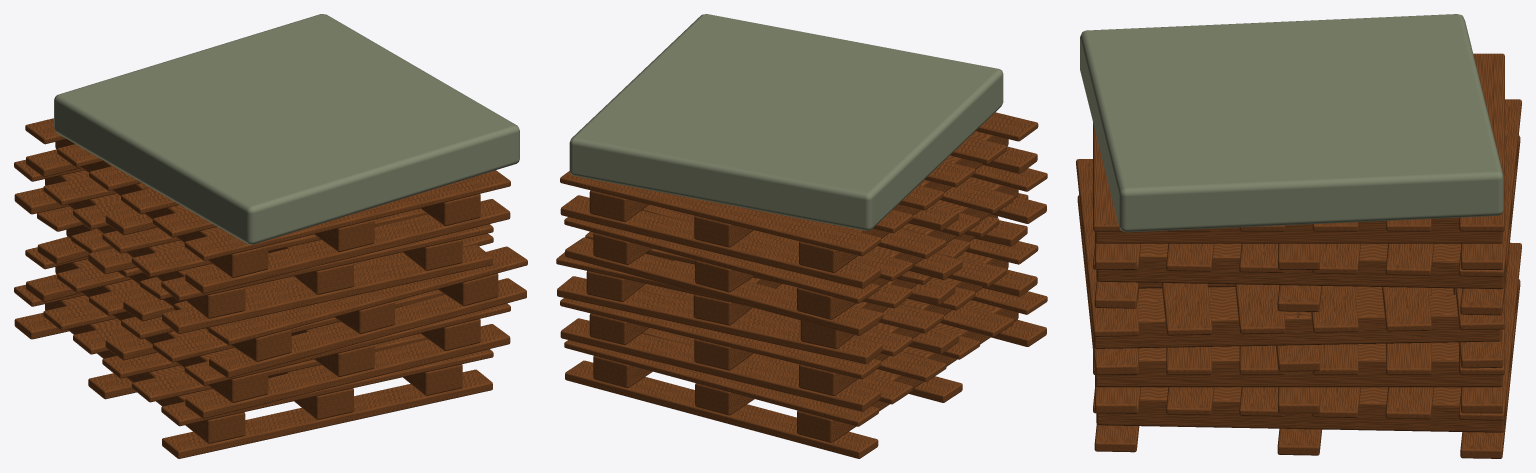
Rendered from battle-royale-town-and-airfield-pallet-stack-189e9089__28266.glb.
3 views of the same model, side by side, from view 1: azimuth 30°, elevation 25°; view 2: azimuth 150°, elevation 25°; view 3: azimuth 270°, elevation 25° (orthographic). The views are drawn at different scales.
Visible parts, largest first — view 1: pallet-stack; view 2: pallet-stack; view 3: pallet-stack.
Boxes of the visible parts, x1,y1,x2,y2 form: pallet-stack: (14,14,527,458); pallet-stack: (556,14,1047,458); pallet-stack: (1076,14,1521,458).
Bounding box in the file's own units: 1.31 × 0.89 × 1.27.
2 materials, 1 textured.
